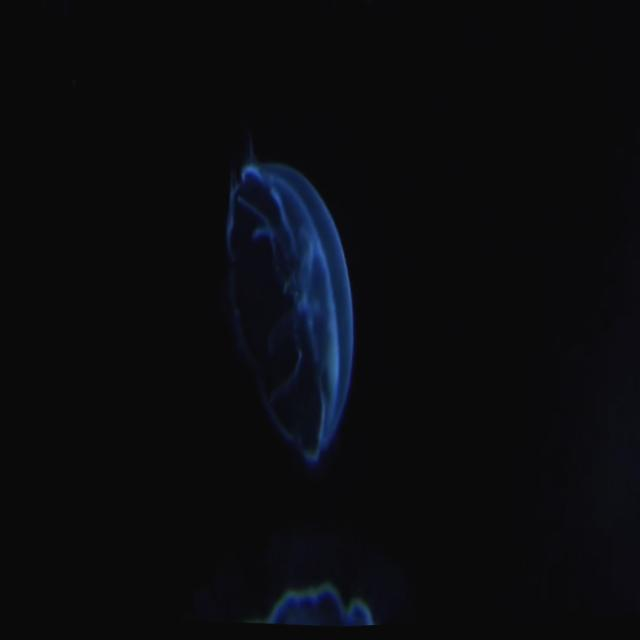Moon-jellyfish: (216, 134, 353, 486)
